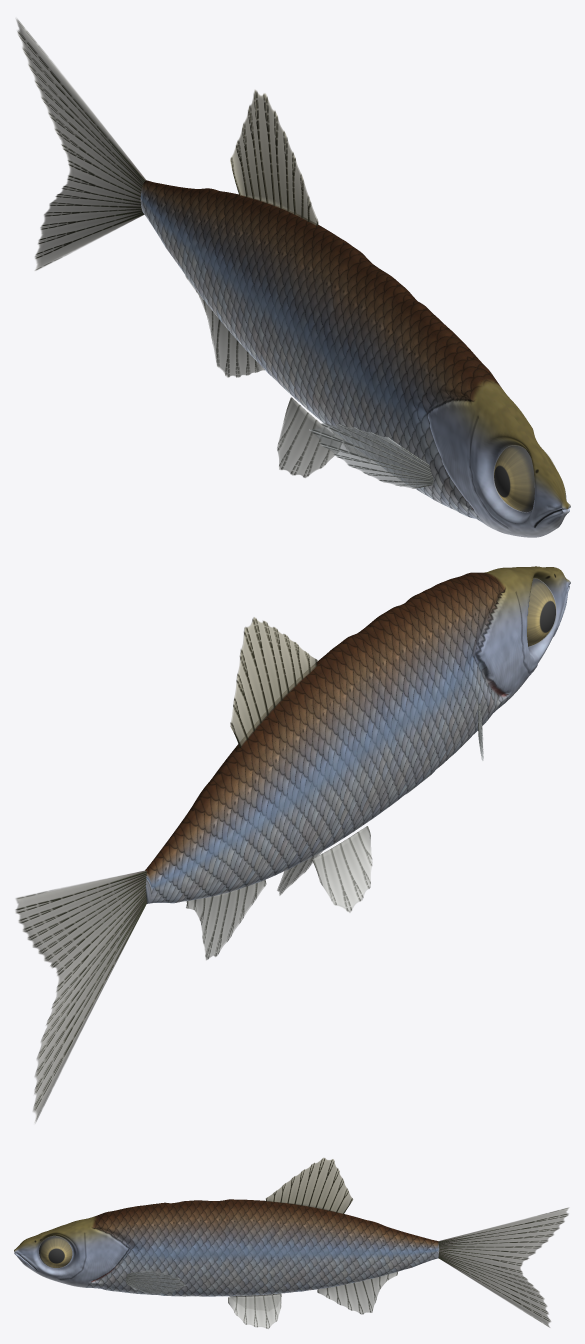
Rendered from slonecznica.glb.
The picture shows the model from 3 angles, top to bottom: view 1: azimuth 30°, elevation 25°; view 2: azimuth 150°, elevation 25°; view 3: azimuth 270°, elevation 25°; orthographic projection. The views are drawn at different scales.
Visible parts, largest first — view 1: Body, FinCaudal, FinDorsal1, FinPectoral, FinPelvic, CorneaLeft, EyeLeft, FinAnal; view 2: Body, FinCaudal, FinDorsal1, FinPelvic, FinAnal, CorneaLeft, EyeLeft; view 3: Body, FinCaudal, FinDorsal1, FinAnal, FinPelvic, FinPectoral, EyeRight, CorneaRight.
Boxes of the visible parts, x1,y1,x2,y2 form: Body: [140, 180, 570, 537]; FinCaudal: [16, 19, 145, 270]; FinDorsal1: [230, 90, 318, 225]; FinPectoral: [309, 423, 433, 488]; FinPelvic: [277, 397, 370, 478]; CorneaLeft: [493, 445, 534, 512]; EyeLeft: [494, 445, 534, 512]; FinAnal: [185, 275, 264, 377]; Body: [145, 566, 570, 903]; FinCaudal: [15, 870, 146, 1122]; FinDorsal1: [230, 617, 317, 747]; FinPelvic: [277, 826, 372, 912]; FinAnal: [186, 879, 266, 960]; CorneaLeft: [527, 578, 556, 646]; EyeLeft: [527, 578, 555, 646]; Body: [14, 1199, 439, 1296]; FinCaudal: [438, 1207, 569, 1327]; FinDorsal1: [265, 1157, 353, 1214]; FinAnal: [317, 1272, 397, 1314]; FinPelvic: [228, 1293, 281, 1328]; FinPectoral: [125, 1270, 185, 1293]; EyeRight: [39, 1236, 72, 1267]; CorneaRight: [39, 1236, 72, 1267].
Size of the model in its own units: 0.1825 by 0.3445 by 1.
8 materials, 7 textured.
